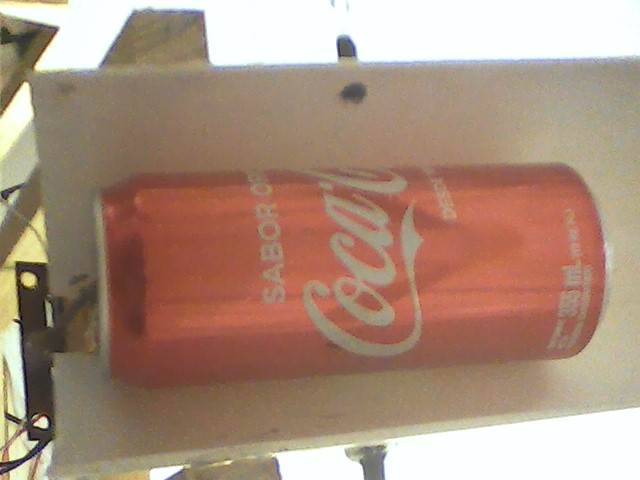lata: (86, 162, 620, 391)
